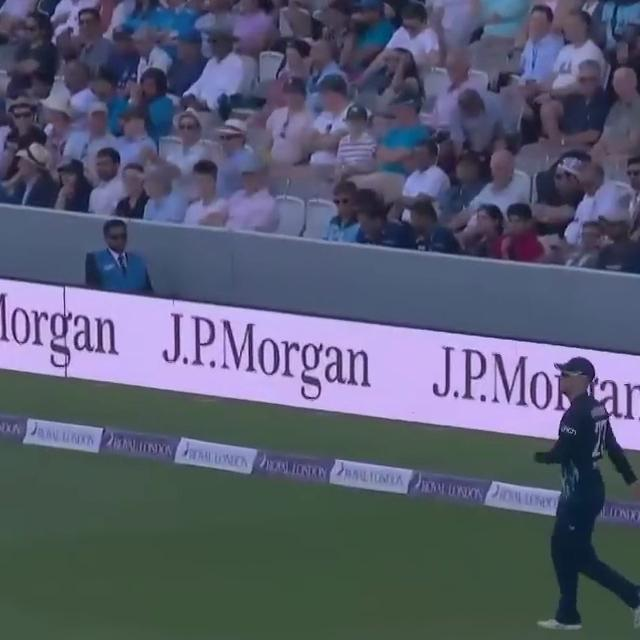person: (521, 350, 640, 635)
